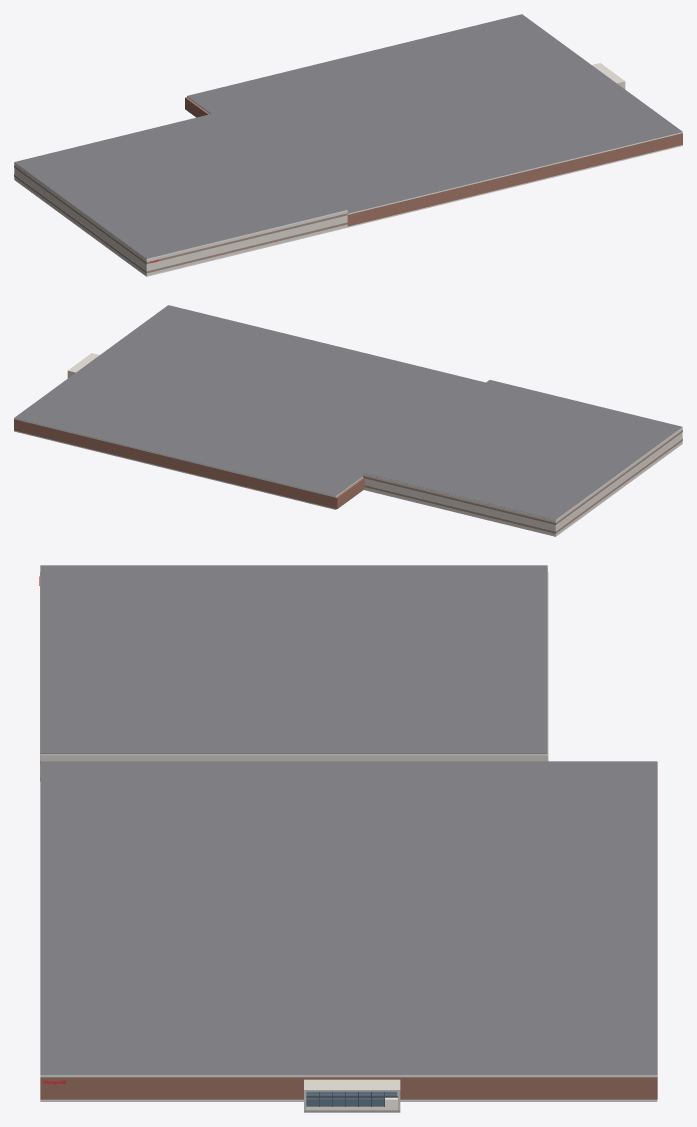
File: richardson.glb
3 views of the same model, one above another, from view 1: azimuth 30°, elevation 25°; view 2: azimuth 150°, elevation 25°; view 3: azimuth 270°, elevation 25° (orthographic). The views are drawn at different scales.
Parts seen in each view (by area): view 1: main_roof, fab_roof, east_exterior_small_wall, east_exterior_wall, south_exterior_wall, main_ceiling, main_floor, fab_ceiling, fab_floor, wall_liner.004, wall_liner.003; view 2: main_roof, fab_roof, west_exterior_small_wall, west_exterior_wall, south_exterior_wall, main_ceiling, fab_ceiling, fab_floor, main_floor, wall_liner.005, wall_liner.006, south_exterior_small_wall; view 3: main_roof, fab_roof, north_exterior_small_wall.002, north_exterior_small_wall.001, south_exterior_wall.001, main_floor, main_ceiling, enterance_wall.003, enterance_floor, fab_ceiling.
Part boxes in pixels (x1,y1,x2,y2): main_roof: [187, 14, 682, 213]; fab_roof: [14, 113, 347, 258]; east_exterior_small_wall: [347, 133, 682, 226]; east_exterior_wall: [145, 211, 347, 275]; south_exterior_wall: [15, 164, 145, 274]; main_ceiling: [187, 96, 682, 214]; main_floor: [347, 145, 682, 227]; fab_ceiling: [14, 162, 347, 259]; fab_floor: [14, 179, 347, 276]; wall_liner.004: [146, 222, 347, 273]; wall_liner.003: [146, 213, 347, 264]; main_roof: [14, 305, 485, 496]; fab_roof: [363, 380, 682, 519]; west_exterior_small_wall: [14, 419, 338, 508]; west_exterior_wall: [363, 474, 556, 535]; south_exterior_wall: [557, 429, 681, 534]; main_ceiling: [14, 418, 362, 497]; fab_ceiling: [363, 427, 682, 520]; fab_floor: [364, 443, 682, 536]; main_floor: [14, 430, 336, 509]; wall_liner.005: [363, 476, 555, 524]; wall_liner.006: [364, 485, 555, 533]; south_exterior_small_wall: [337, 477, 364, 508]; main_roof: [40, 761, 657, 1074]; fab_roof: [40, 565, 547, 753]; north_exterior_small_wall.002: [42, 1077, 306, 1099]; north_exterior_small_wall.001: [398, 1077, 653, 1099]; south_exterior_wall.001: [44, 756, 543, 761]; main_floor: [40, 1091, 657, 1101]; main_ceiling: [40, 1075, 657, 1077]; enterance_wall.003: [304, 1079, 400, 1091]; enterance_floor: [304, 1099, 400, 1112]; fab_ceiling: [40, 754, 547, 755].
Bounding box in the file's own units: 147 × 4.62 × 74.97.
